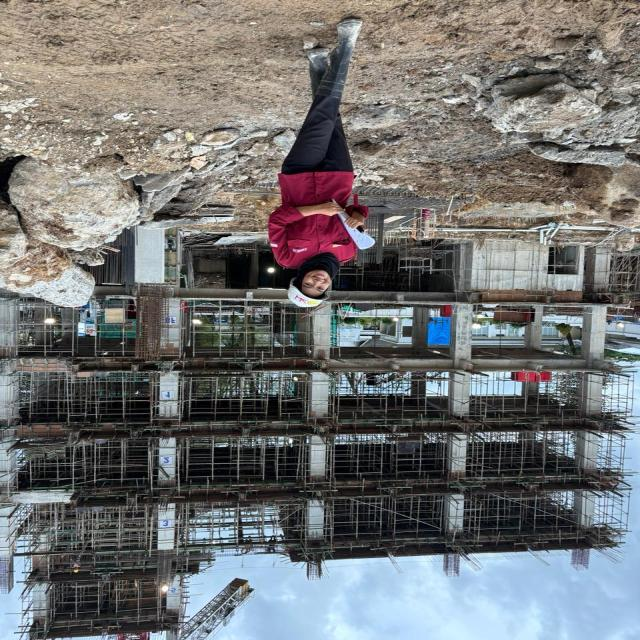safetyhelmet: (280, 255, 344, 317)
